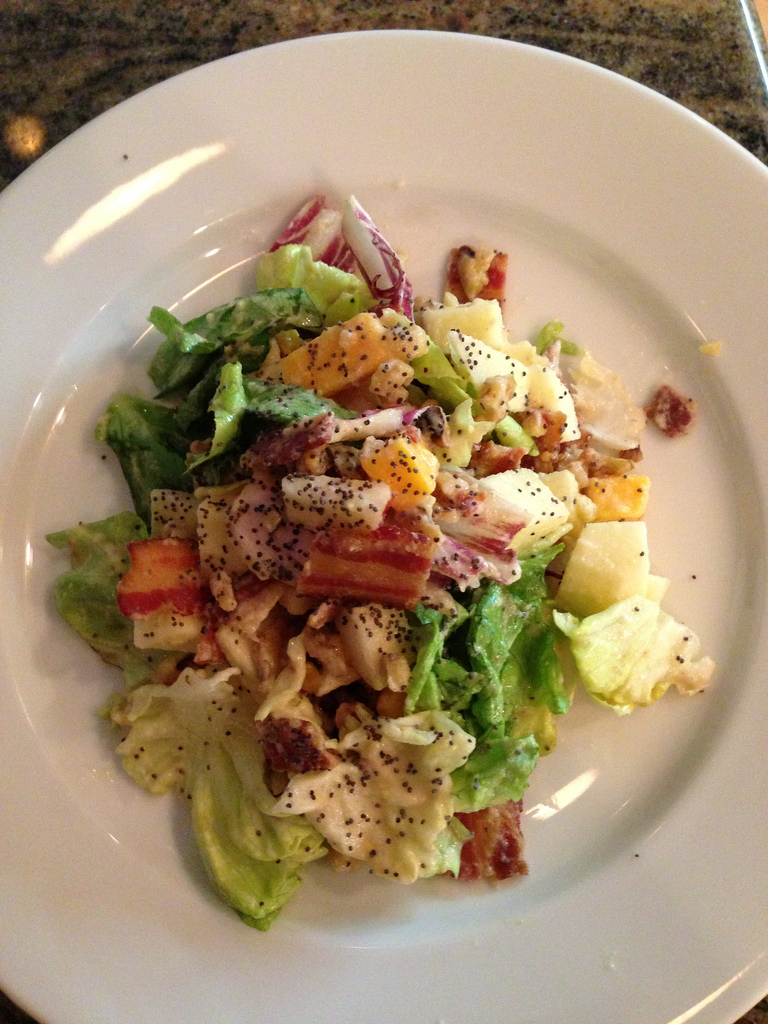chopped lettuce: (88, 274, 633, 880)
